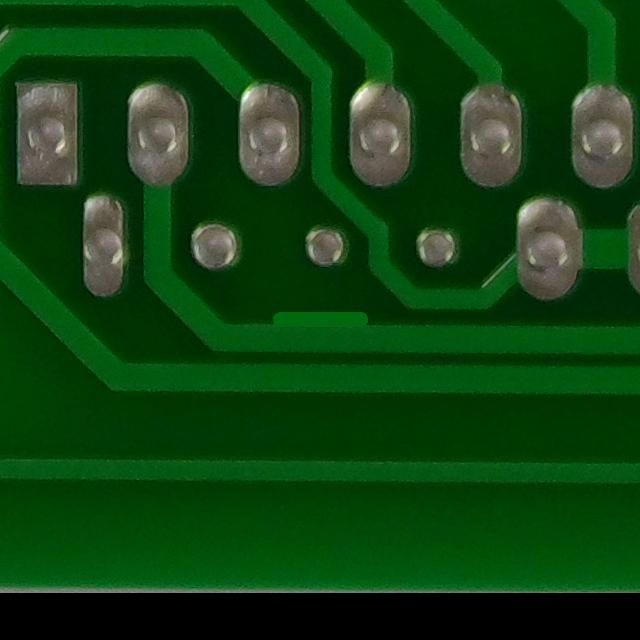spur: (256, 288, 384, 352)
